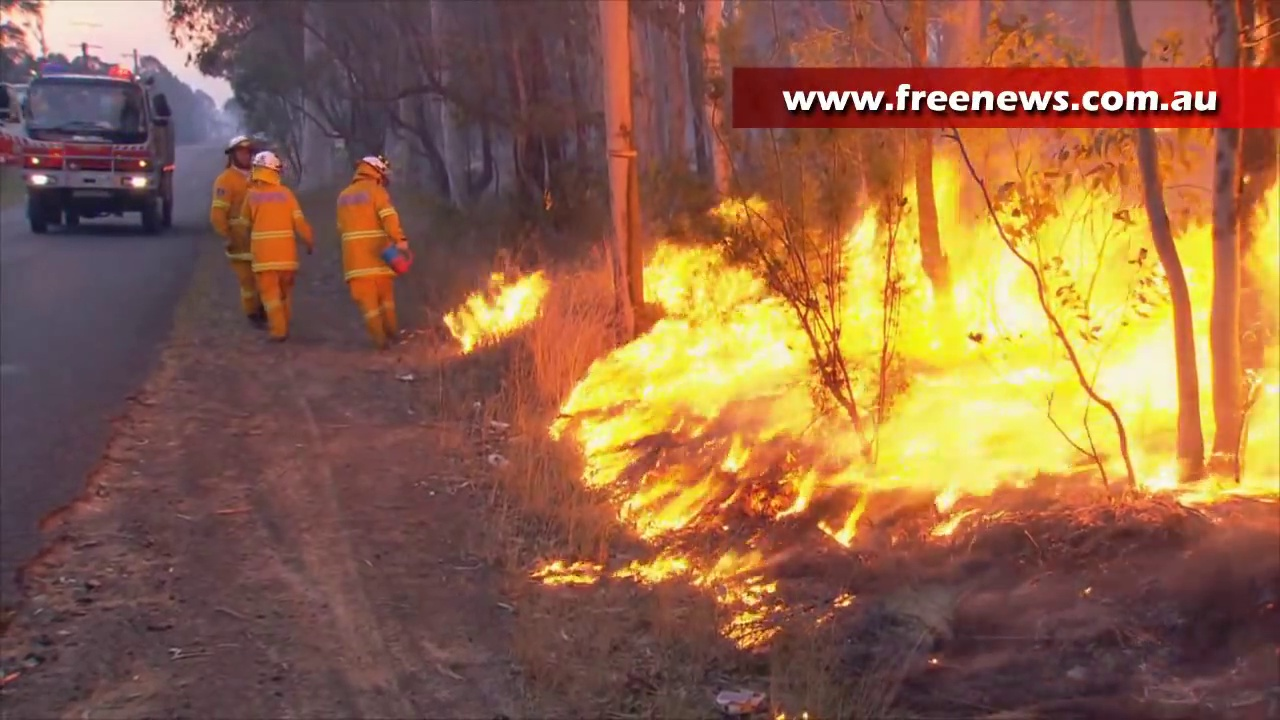fire: (553, 168, 1280, 545), (536, 547, 776, 647), (439, 265, 544, 350)
